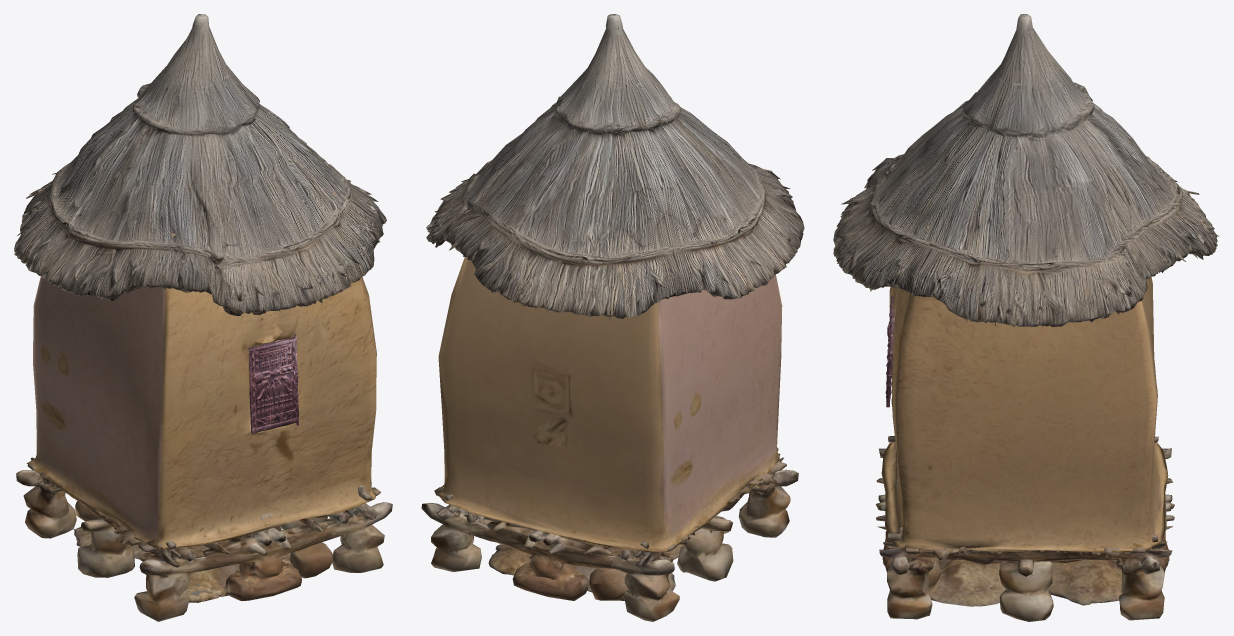
The model's file is 4_toit.glb.
The picture shows the model from 3 angles, left to right: view 1: azimuth 30°, elevation 25°; view 2: azimuth 150°, elevation 25°; view 3: azimuth 270°, elevation 25°; orthographic projection. The views are drawn at different scales.
Visible parts, largest first — view 1: Wall, roof, rock, Window; view 2: Wall, roof, rock; view 3: roof, Wall, rock, Window.
Part boxes in pixels (x1,y1,x2,y2): Wall: (26, 193, 376, 549); roof: (14, 14, 386, 316); rock: (16, 457, 392, 621); Window: (248, 334, 298, 434); Wall: (438, 160, 782, 552); roof: (426, 14, 804, 320); rock: (421, 448, 798, 621); roof: (833, 14, 1218, 326); Wall: (881, 225, 1168, 553); rock: (876, 436, 1174, 621); Window: (885, 296, 894, 407).
Bounding box in the file's own units: 1.23 × 1.92 × 1.23.
Materials: 5 (5 with a texture image).
